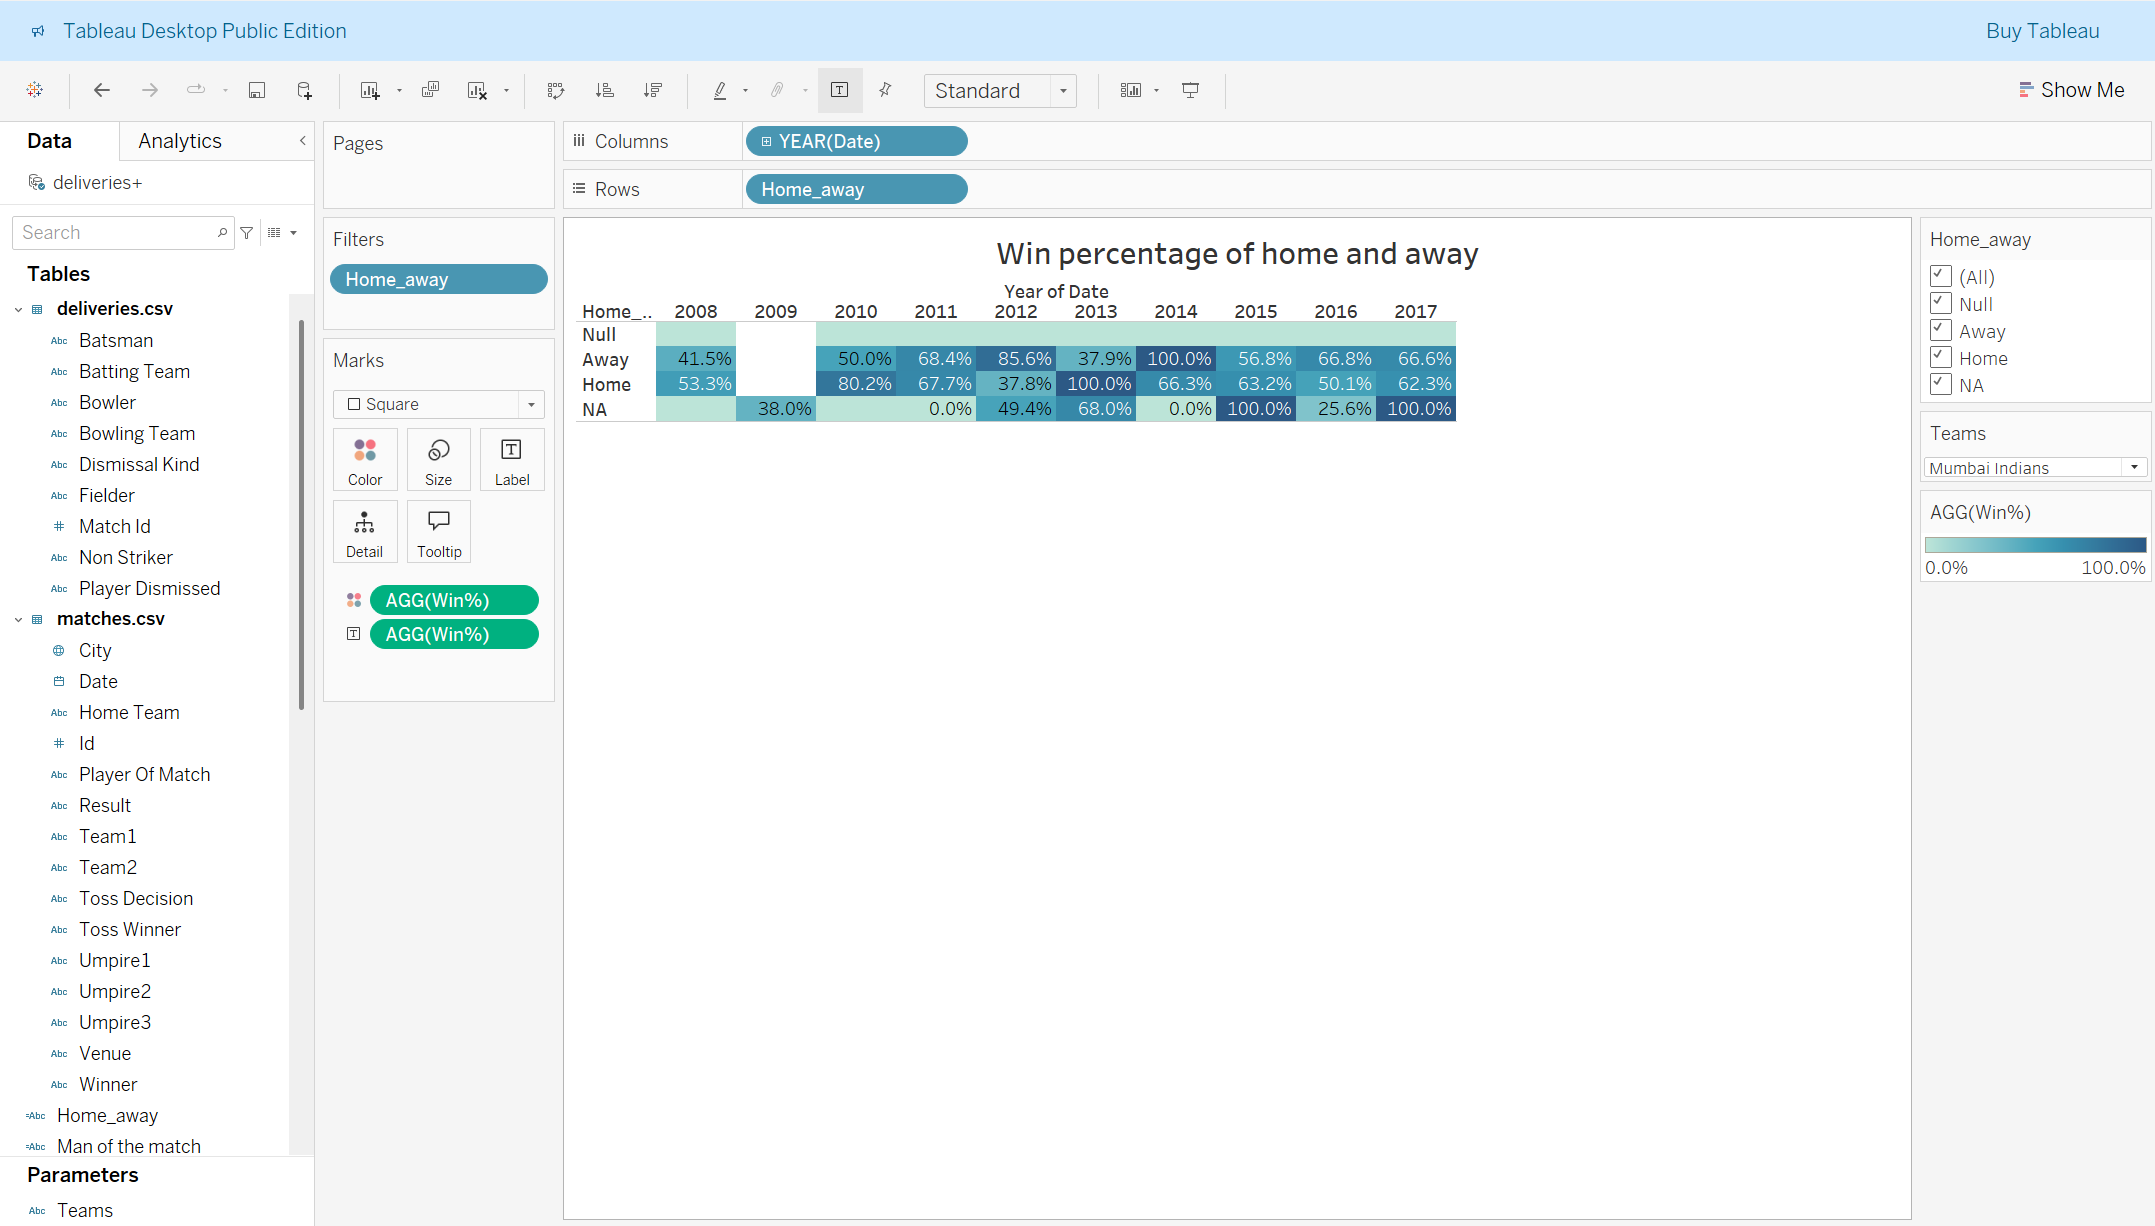

Layout of this report page (visuals, bound fields, positions):
{"tool":"tableau","page":{"name":"season","canvas":[1000,1000],"units":"permille","ordinal":2},"visuals":[{"type":"title","box":[4.3,7.2,991.3,41.6]},{"type":"worksheet","title":"s1","mark":"Bar","rows":["Calculation_99642168552820745"],"cols":["date"],"box":[4.3,48.8,596.8,944]},{"type":"worksheet","title":"s2","mark":"Square","rows":["Calculation_99642168553938955"],"cols":["date"],"box":[601.1,48.8,307.8,944]},{"type":"filter","title":"s1","param":"[federated.1xgo8gq0ciczm31bon2gl15yu2lw].[yr:date:ok]","box":[910,50.6,84.6,304.7]},{"type":"parameter","param":"[Parameters].[Parameter 1]","box":[910,355.3,84.6,54.2]},{"type":"filter","title":"s2","param":"[federated.1xgo8gq0ciczm31bon2gl15yu2lw].[none:Calculation_99642168553938955:nk]","box":[910,409.6,84.6,161.8]}]}

Visuals, with their boxes on the dashboard's canvas, which has no fixed pixel size, in thousandths of its width and height (x1, y1, x2, y2). These are canvas units, not pixel positions in the 2155x1226 screenshot, which may show the page scaled, cropped or inside an application window:
title: box(4, 7, 996, 49)
"s1" worksheet (Bar marks): box(4, 49, 601, 993)
"s2" worksheet (Square marks): box(601, 49, 909, 993)
"s1" filter: box(910, 51, 995, 355)
parameter: box(910, 355, 995, 410)
"s2" filter: box(910, 410, 995, 571)
